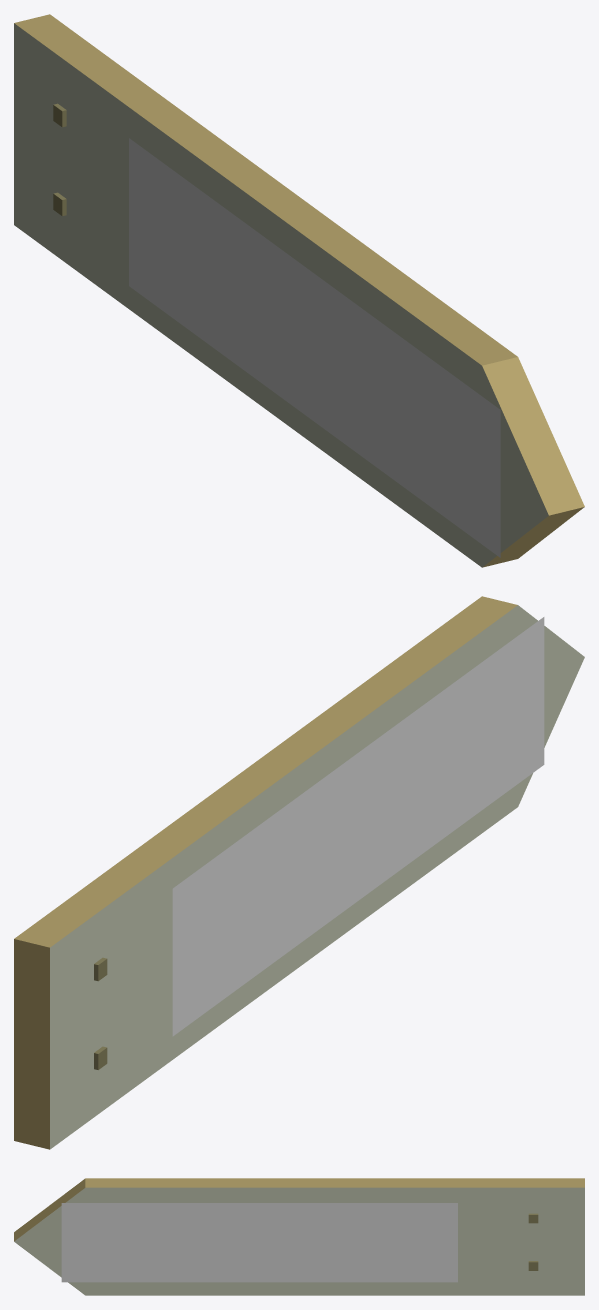
File: signpost_arm.glb
The picture shows the model from 3 angles, top to bottom: view 1: azimuth 30°, elevation 25°; view 2: azimuth 150°, elevation 25°; view 3: azimuth 270°, elevation 25°; orthographic projection. The views are drawn at different scales.
Parts seen in each view (by area): view 1: signpost_arm, signpost_arm_label1; view 2: signpost_arm, signpost_arm_label1; view 3: signpost_arm, signpost_arm_label.
Boxes of the visible parts, left/top/right/bottom form: signpost_arm: left=14, top=14, right=584, bottom=567; signpost_arm_label1: left=129, top=138, right=500, bottom=557; signpost_arm: left=14, top=596, right=584, bottom=1149; signpost_arm_label1: left=172, top=617, right=544, bottom=1036; signpost_arm: left=14, top=1178, right=584, bottom=1295; signpost_arm_label: left=61, top=1203, right=457, bottom=1282.
Size of the model in its own units: 0.035 by 0.15 by 0.72.
